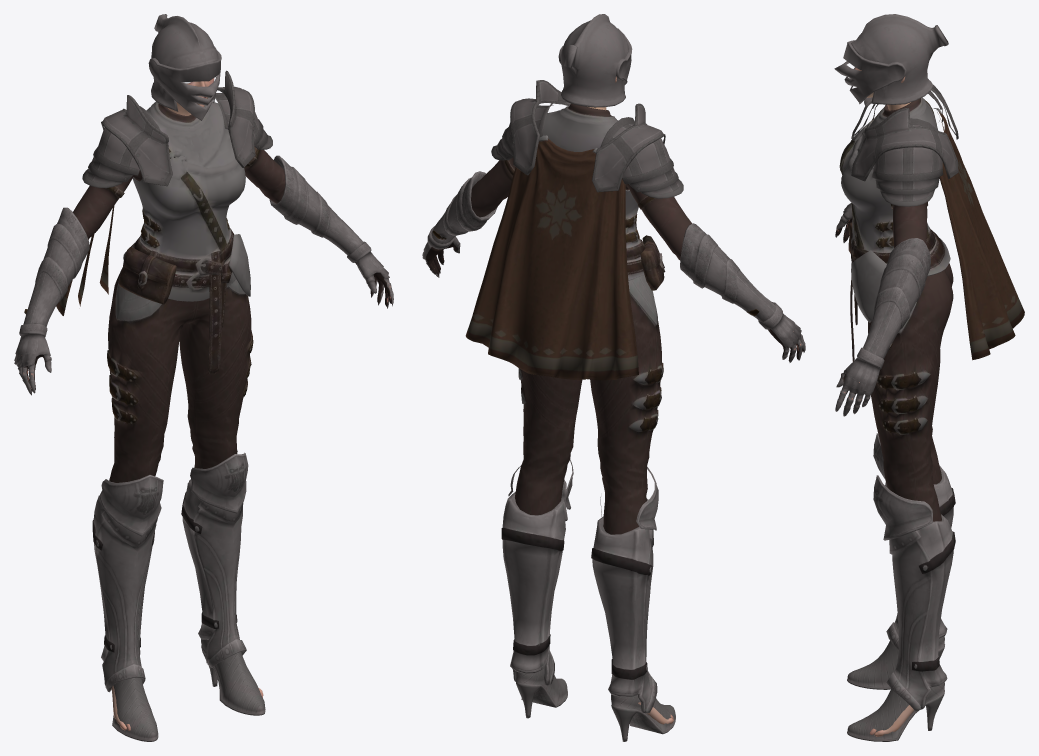
The picture shows the model from 3 angles, left to right: view 1: azimuth 30°, elevation 25°; view 2: azimuth 150°, elevation 25°; view 3: azimuth 270°, elevation 25°; orthographic projection.
Parts seen in each view (by area): view 1: GF_0106_T04_Boots, GF_0106_T04_Body, GF_0106_T04_Pants, GF_0106_T04_Glove, GF_0106_T04_Shoulder, GF_0106_T04_Helmet, GF_0106_T04_Cape; view 2: GF_0106_T04_Cape, GF_0106_T04_Boots, GF_0106_T04_Pants, GF_0106_T04_Shoulder, GF_0106_T04_Body, GF_0106_T04_Glove, GF_0106_T04_Helmet; view 3: GF_0106_T04_Boots, GF_0106_T04_Pants, GF_0106_T04_Body, GF_0106_T04_Cape, GF_0106_T04_Shoulder, GF_0106_T04_Helmet, GF_0106_T04_Glove.
Part boxes in pixels (<box>): GF_0106_T04_Boots: <box>92,452,265,741</box>; GF_0106_T04_Body: <box>21,102,390,388</box>; GF_0106_T04_Pants: <box>107,268,263,730</box>; GF_0106_T04_Glove: <box>14,155,393,395</box>; GF_0106_T04_Shoulder: <box>82,70,272,188</box>; GF_0106_T04_Helmet: <box>148,14,221,120</box>; GF_0106_T04_Cape: <box>56,206,114,315</box>; GF_0106_T04_Cape: <box>465,135,638,380</box>; GF_0106_T04_Boots: <box>501,460,675,741</box>; GF_0106_T04_Pants: <box>515,275,673,724</box>; GF_0106_T04_Shoulder: <box>491,80,683,198</box>; GF_0106_T04_Body: <box>443,103,800,351</box>; GF_0106_T04_Glove: <box>422,171,805,362</box>; GF_0106_T04_Helmet: <box>558,14,632,107</box>; GF_0106_T04_Boots: <box>847,433,955,741</box>; GF_0106_T04_Pants: <box>868,263,953,736</box>; GF_0106_T04_Body: <box>837,97,950,401</box>; GF_0106_T04_Cape: <box>933,108,1024,360</box>; GF_0106_T04_Shoulder: <box>851,85,958,206</box>; GF_0106_T04_Helmet: <box>834,14,948,104</box>; GF_0106_T04_Glove: <box>835,203,930,416</box>.
Bounding box in the file's own units: 1.03 × 1.85 × 0.4614.
Materials: 10 (9 with a texture image).
